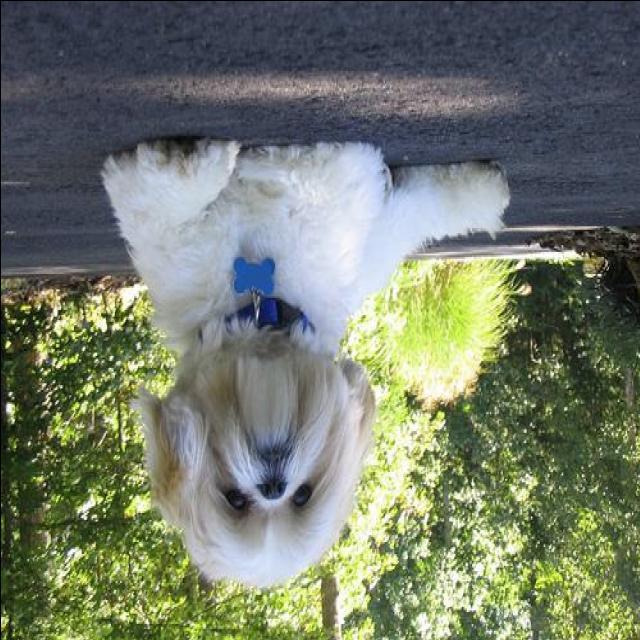shih_tzu: (99, 136, 512, 594)
